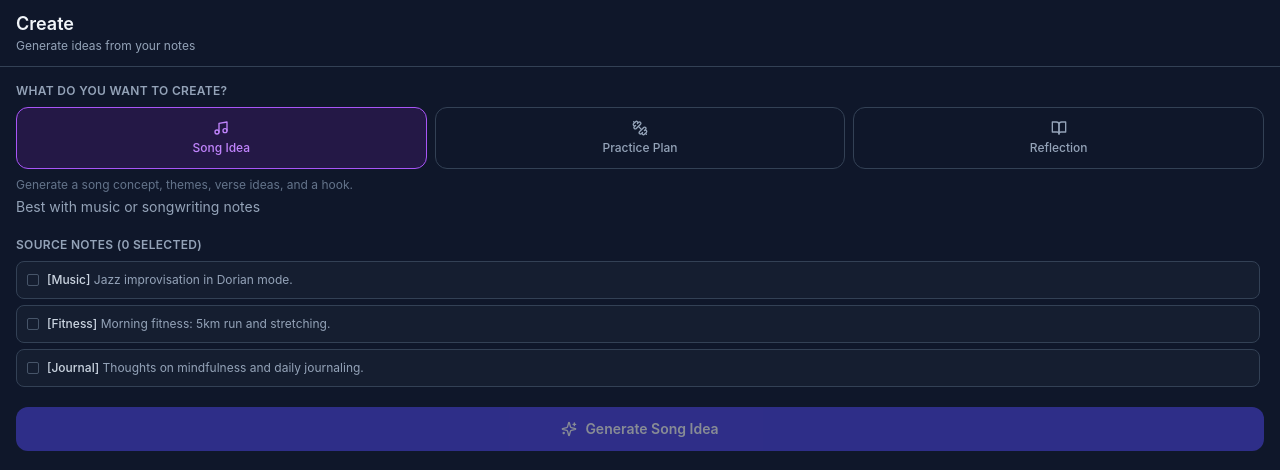
CreatePage (Task 5.3) › shows loading indicator while generating
The width and height of the screenshot is (1280, 470).
Click the button "[Music] Jazz improvisation in Dorian mode." at (69, 280), box [16,261,1260,299]
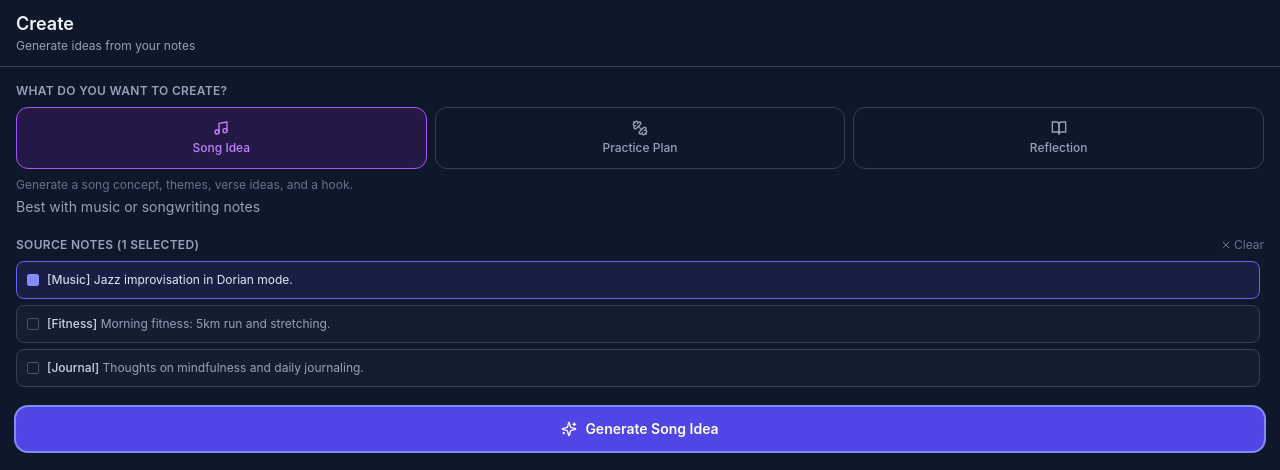
Click the button "Generate Song Idea" at (640, 429), box [16,407,1264,451]
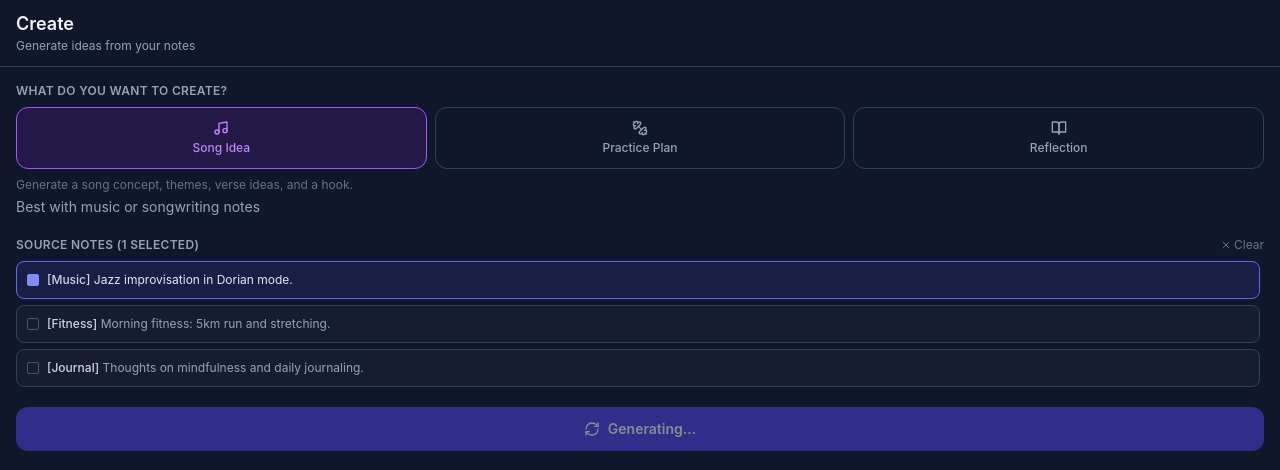
Expected: the text "Generating…" is shown, [16,407,1264,451]
